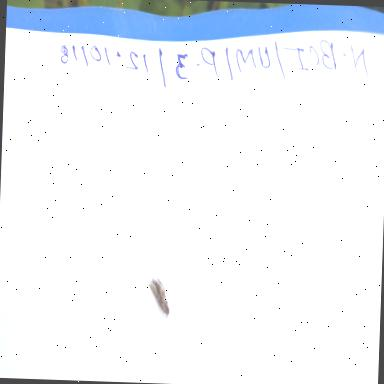pbw: (145, 270, 174, 322)
